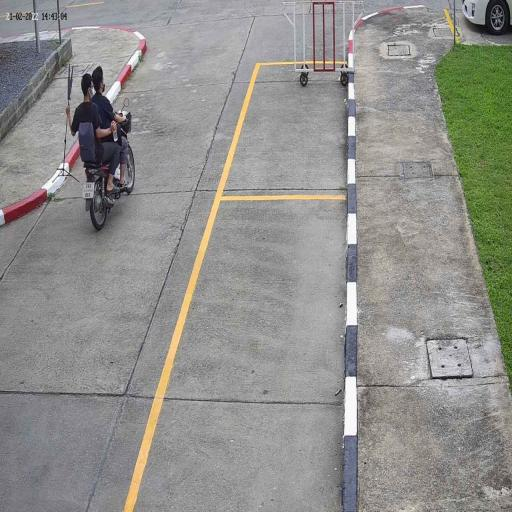motorcycle: (82, 151, 136, 231)
